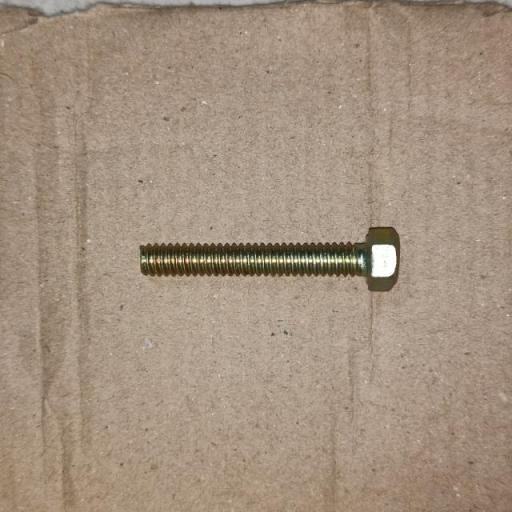Bolt: (139, 227, 399, 292)
